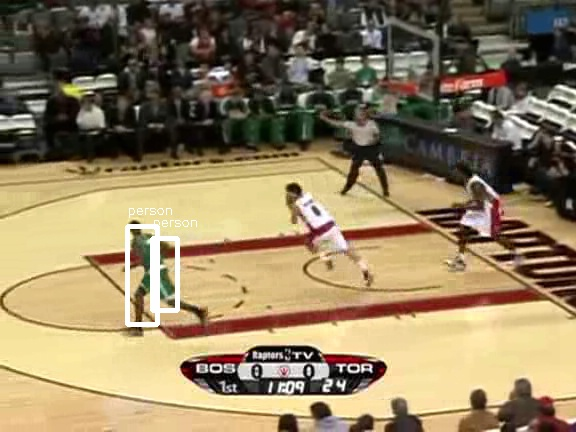person: (136, 229, 170, 310), (135, 229, 169, 310), (137, 229, 171, 310), (136, 228, 170, 309), (136, 230, 170, 311)
target_negative: (31, 166, 205, 290), (288, 267, 358, 359), (215, 128, 240, 260), (170, 414, 411, 426), (338, 303, 402, 342), (373, 352, 421, 395)
